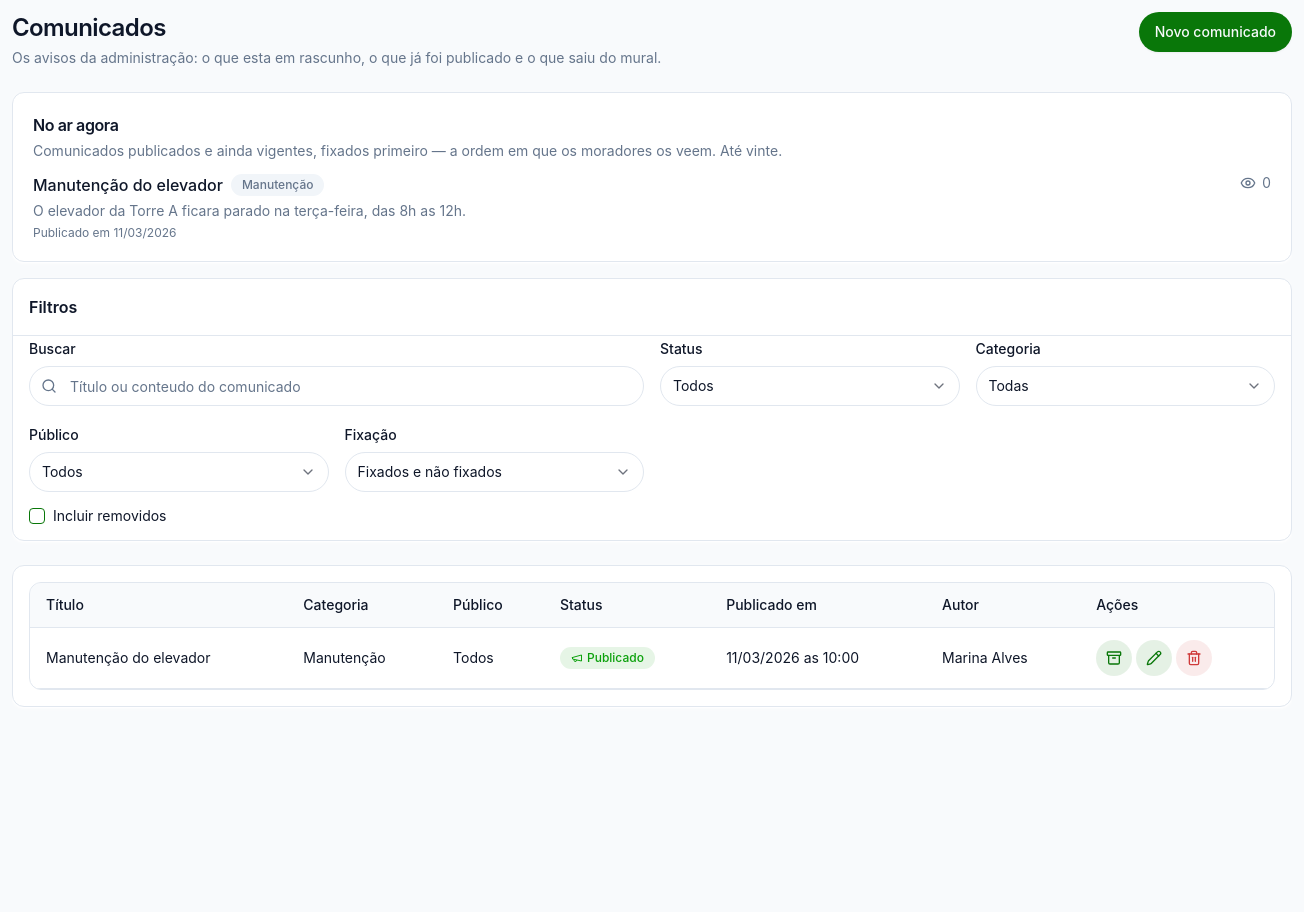
it: Ciclo de vida do comunicado › arquivar muda o status na lista
The width and height of the screenshot is (1304, 912).
expect the text "Publicado" is shown: met, box [560, 647, 655, 669]
Step 1. Click the button named "Arquivar Manutenção do elevador" → (1114, 658), box [1096, 640, 1132, 676]
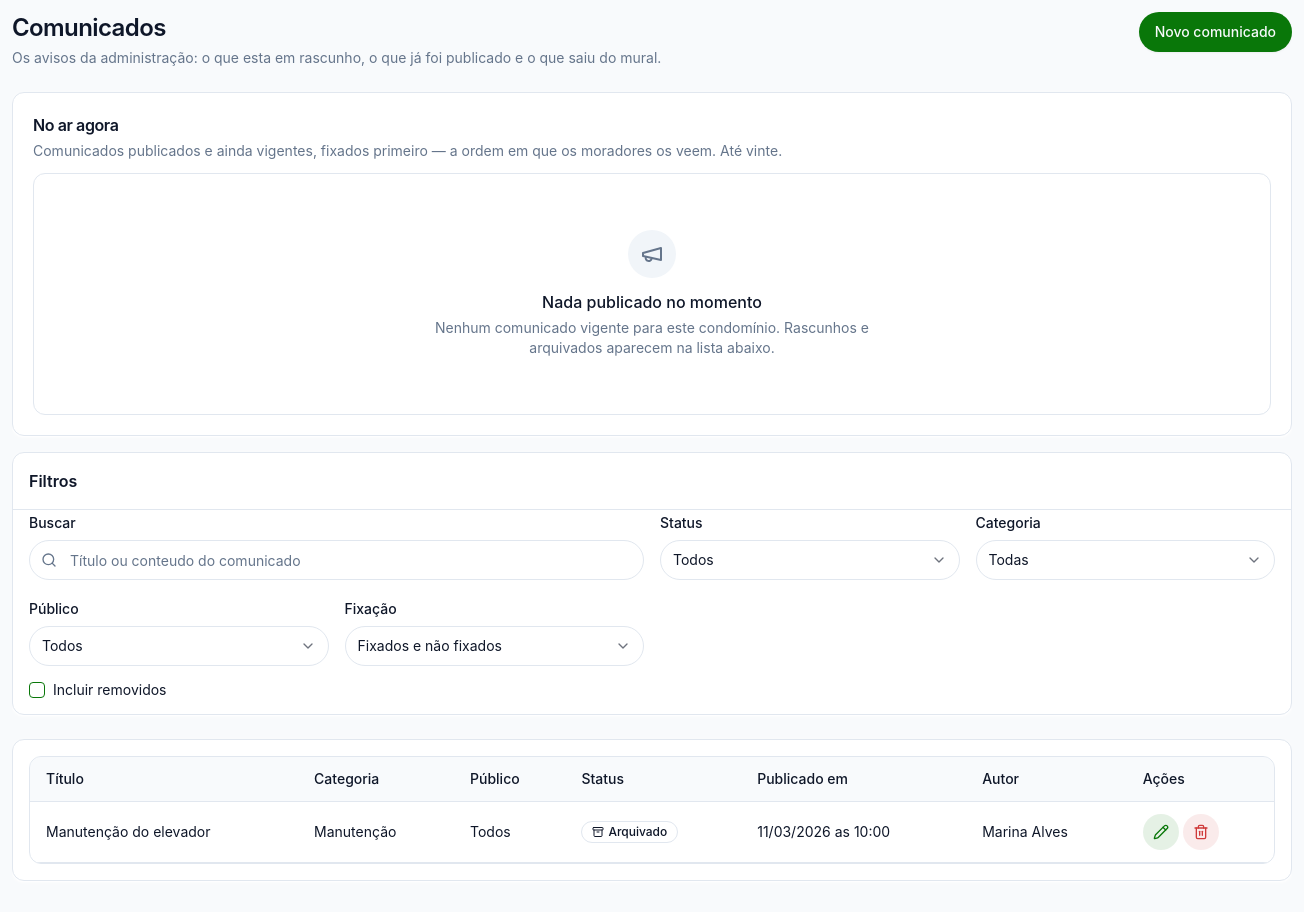
expect the text "Arquivado" is shown: met, box [581, 821, 678, 843]
